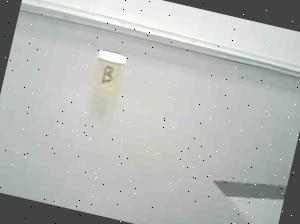Bottle B: (81, 45, 137, 106)
